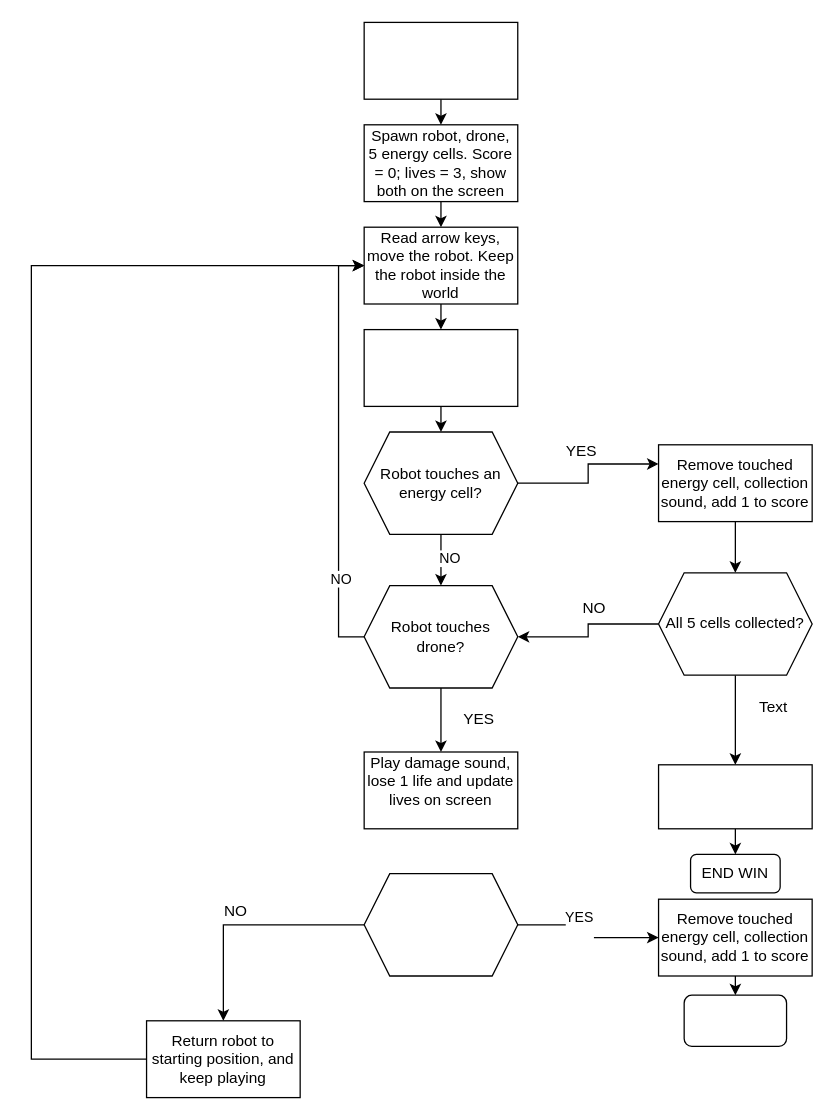
The diagram is 835 pixels wide and 1120 high, and some of its shapes have lost their labels. The box of each missing label's shape, as (x1, y1, x2, y2) in pixels:
ARE LIVES = 0?: (363, 872, 518, 976)
DISPLAY YOU WIN, END GAME: (657, 764, 812, 829)
END LOSE: (683, 994, 787, 1046)
Move security drone left to right, reverse direction at end of patrol path: (363, 328, 518, 406)
START GAME: (363, 21, 518, 99)
